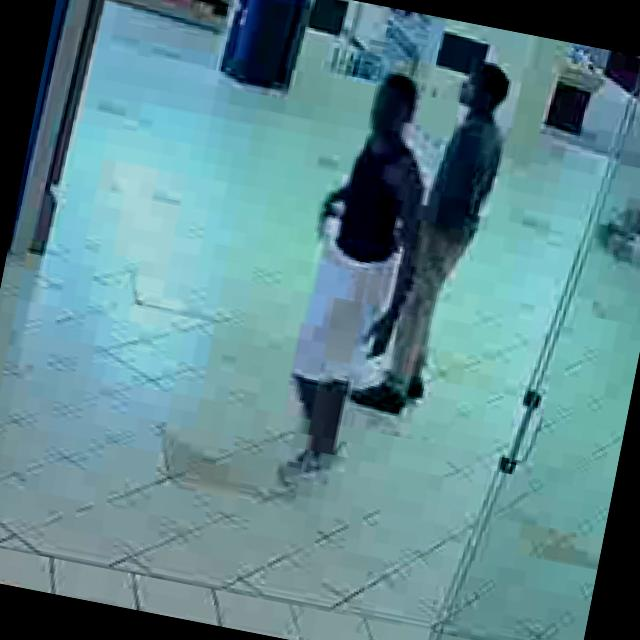person: (268, 63, 450, 500), (355, 52, 519, 422)
